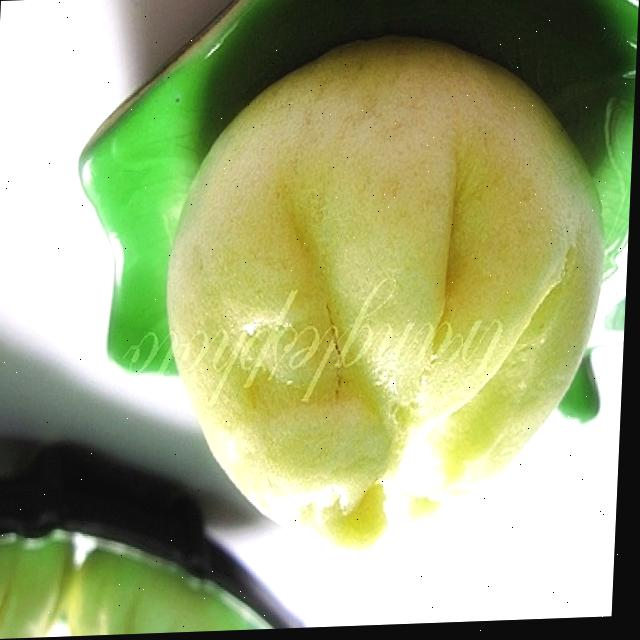带馅早点: (89, 0, 640, 594)
